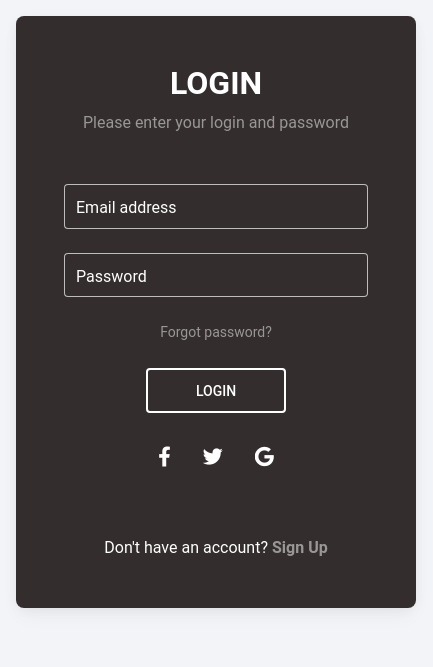
Test: shows an error for invalid login credentials
Type "invalid@example.com" into the field labelled "Email address".
click(216, 206); type("invalid@example.com")  # box x1=64 y1=184 x2=368 y2=229
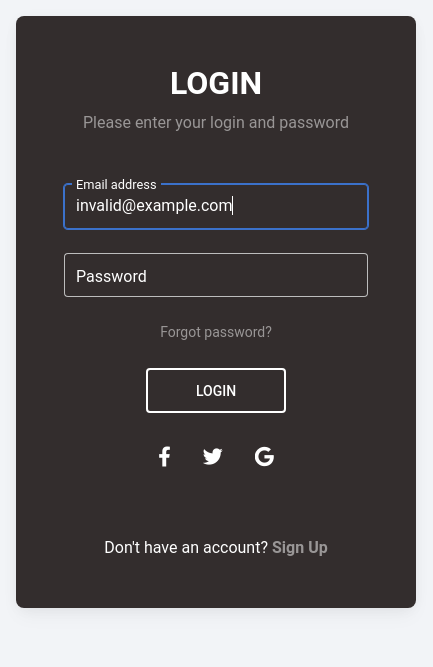
Type "wrongpassword" into the password field labelled "Password".
click(216, 275); type("wrongpassword")  # box x1=64 y1=253 x2=368 y2=297
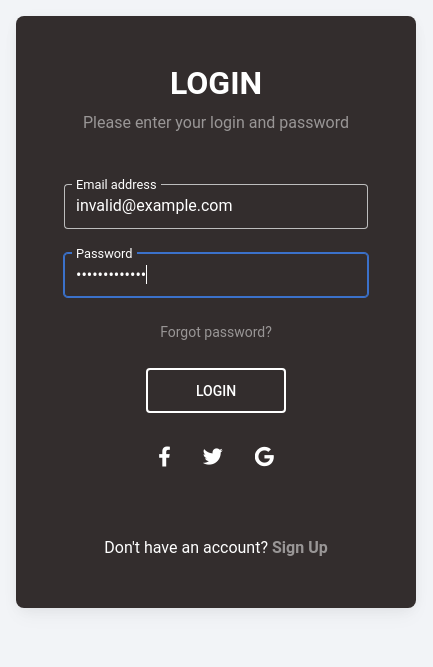
Click the button "Login".
click(216, 390)  # box x1=146 y1=368 x2=286 y2=413
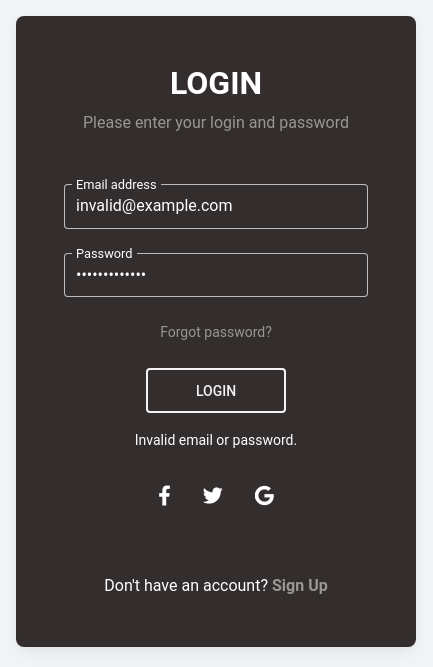
Check: the text "Invalid email or password." is shown, box x1=135 y1=429 x2=297 y2=451
